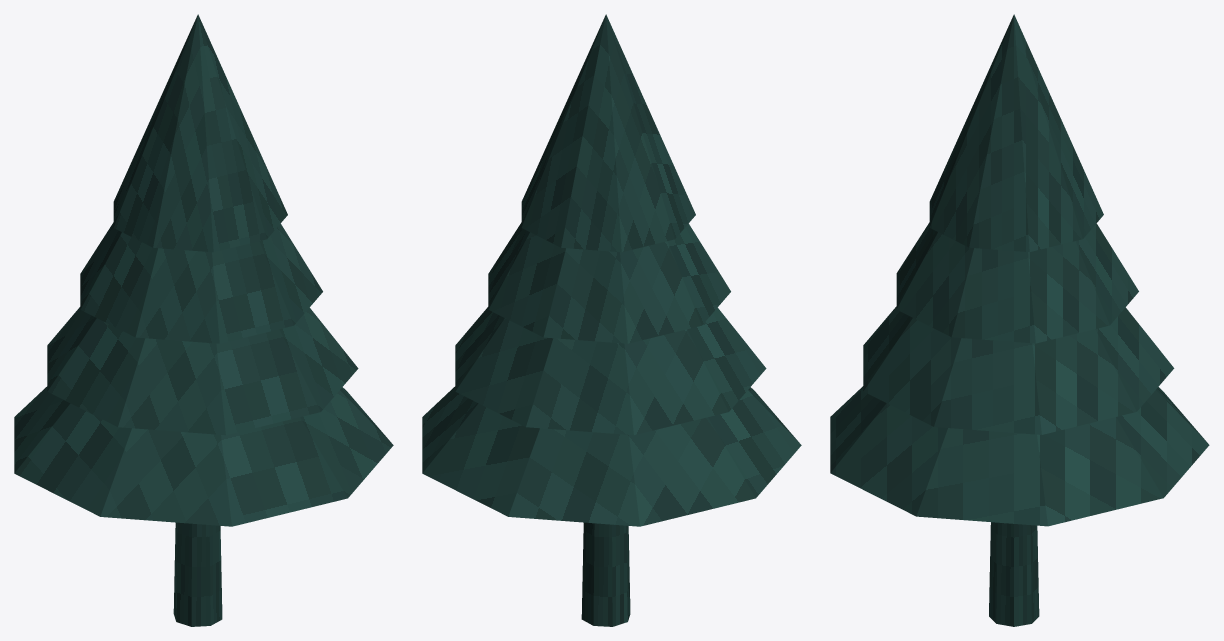
The model's file is pine_33.glb.
3 views of the same model, side by side, from view 1: azimuth 30°, elevation 25°; view 2: azimuth 150°, elevation 25°; view 3: azimuth 270°, elevation 25° (orthographic).
Visible parts, largest first — view 1: Needles, Needles.001, Needles.003, Needles.002, Trunk; view 2: Needles, Needles.001, Needles.003, Needles.002, Trunk; view 3: Needles, Needles.001, Needles.003, Needles.002, Trunk.
Boxes of the visible parts, x1=… form: Needles: x1=14, y1=386, x2=393, y2=526; Needles.001: x1=47, y1=307, x2=358, y2=435; Needles.003: x1=113, y1=14, x2=287, y2=252; Needles.002: x1=80, y1=222, x2=322, y2=343; Trunk: x1=173, y1=522, x2=222, y2=626; Needles: x1=422, y1=386, x2=801, y2=526; Needles.001: x1=455, y1=307, x2=766, y2=435; Needles.003: x1=521, y1=14, x2=695, y2=252; Needles.002: x1=488, y1=222, x2=730, y2=343; Trunk: x1=581, y1=522, x2=630, y2=626; Needles: x1=830, y1=386, x2=1209, y2=526; Needles.001: x1=863, y1=306, x2=1174, y2=434; Needles.003: x1=929, y1=14, x2=1103, y2=252; Needles.002: x1=896, y1=222, x2=1138, y2=343; Trunk: x1=989, y1=522, x2=1039, y2=626.
Bounding box in the file's own units: 3.05 × 5.27 × 3.01.
Materials: 1 (1 with a texture image).
